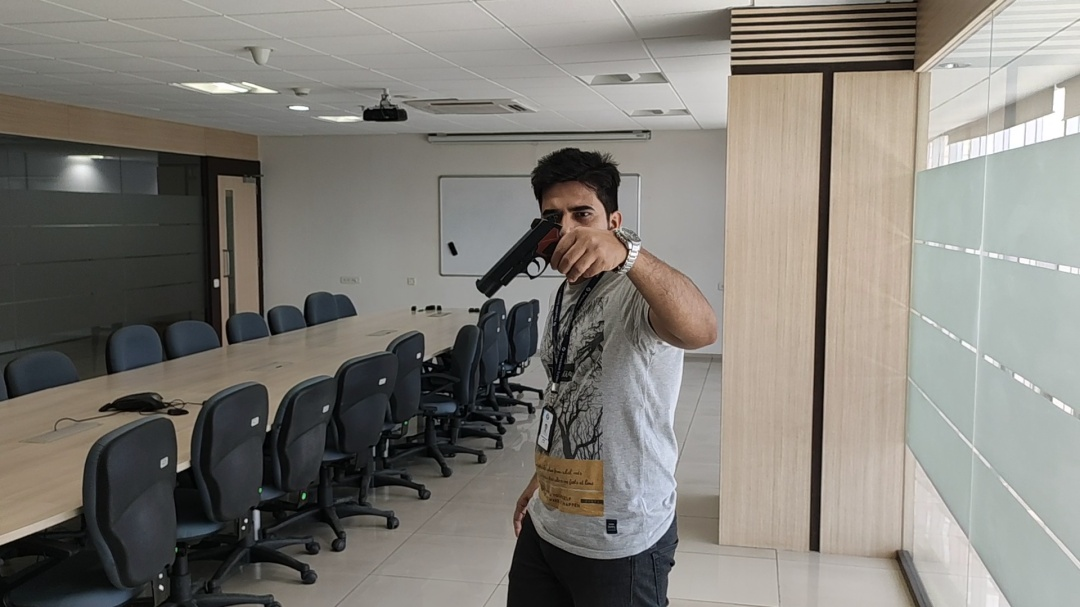gun: (310, 36, 733, 592)
